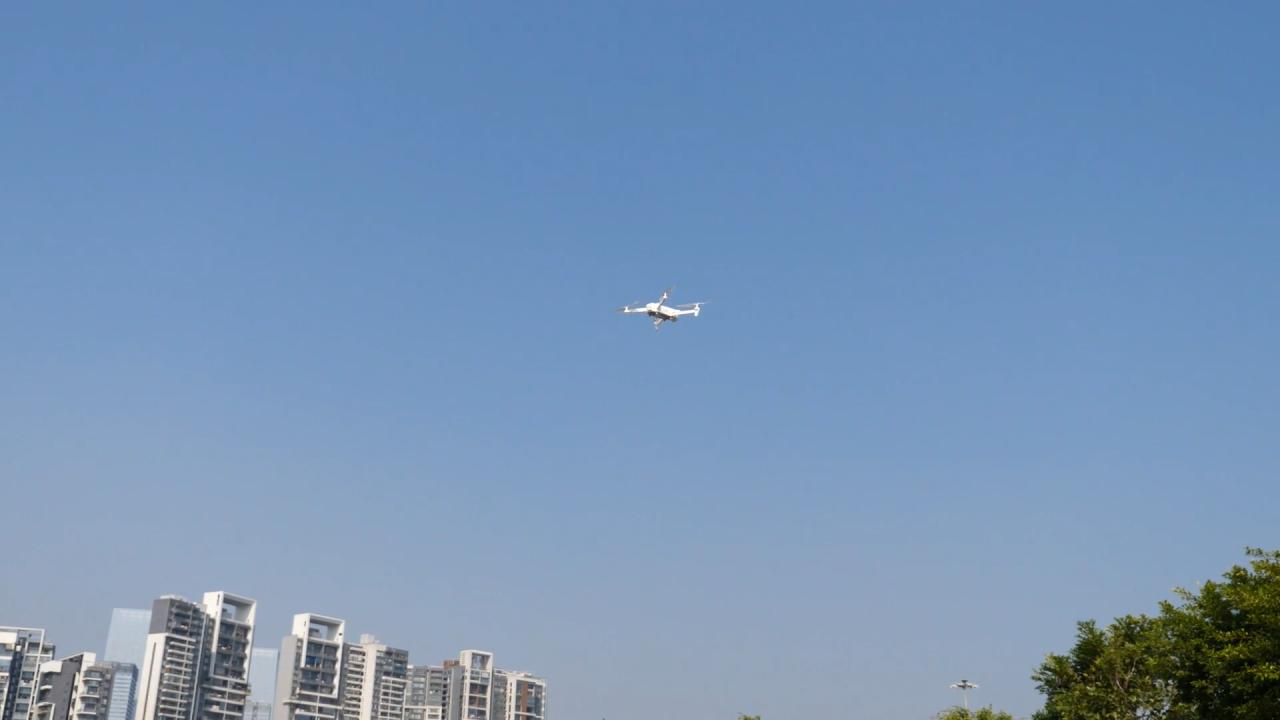Drone: (600, 274, 720, 342)
